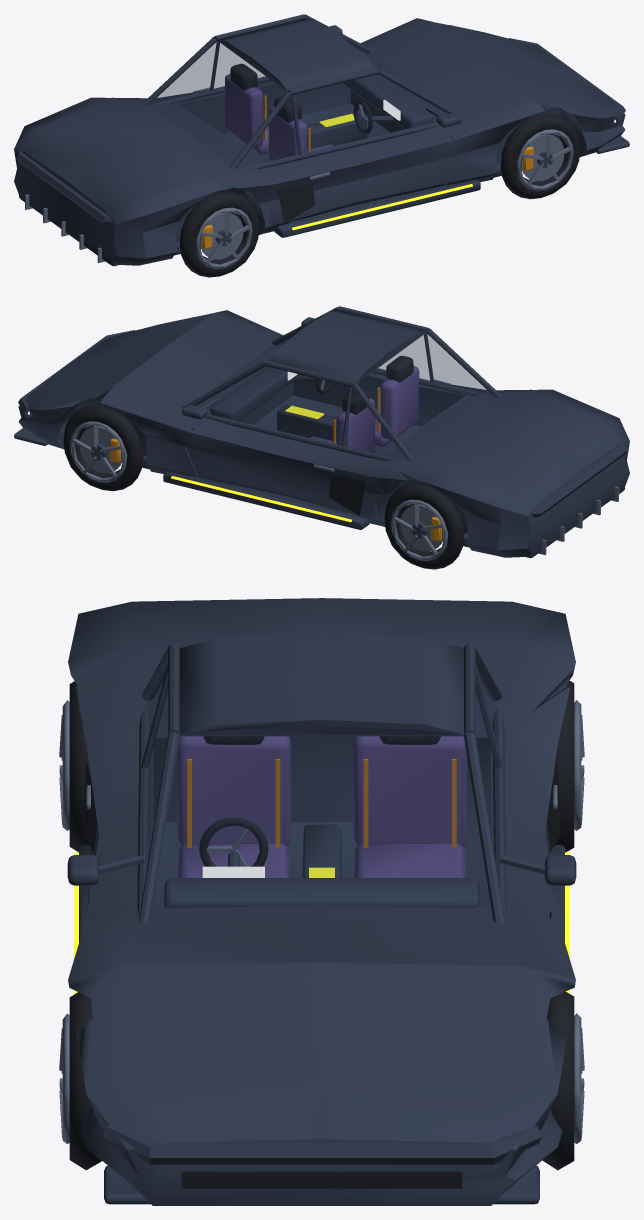
The model's file is mall_showcar.glb.
3 renders of one model, top to bottom at view 1: azimuth 30°, elevation 25°; view 2: azimuth 150°, elevation 25°; view 3: azimuth 270°, elevation 25°, orthographic. The views are drawn at different scales.
Visible parts, largest first — view 1: arched roof, rear glass, front lower inlet, brake rotor, bucket seat back, amber sill accent, amber brake caliper; view 2: arched roof, rear glass, front lower inlet, brake rotor, bucket seat back, amber sill accent, amber brake caliper; view 3: arched roof, rear glass, bucket seat back, front lower inlet, brake rotor, amber brake caliper, amber sill accent.
Boxes of the visible parts, x1,y1,x2,y2 form: arched roof: (14,14,629,266); rear glass: (148,39,446,167); front lower inlet: (179,63,580,277); brake rotor: (25,87,573,268); bucket seat back: (224,74,340,160); amber sill accent: (292,113,472,230); amber brake caliper: (202,95,533,249); arched roof: (14,306,629,558); rear glass: (197,331,495,459); front lower inlet: (63,355,464,569); brake rotor: (70,379,618,560); bucket seat back: (303,366,419,452); amber sill accent: (171,405,351,522); amber brake caliper: (110,387,441,541); arched roof: (67,598,576,1205); rear glass: (145,666,498,919); bucket seat back: (177,736,466,877); front lower inlet: (69,680,574,1188); brake rotor: (59,700,584,1143); amber brake caliper: (187,759,456,847); amber sill accent: (74,852,569,994).
Bounding box in the file's own units: 4.67 × 1.3 × 2.03.
